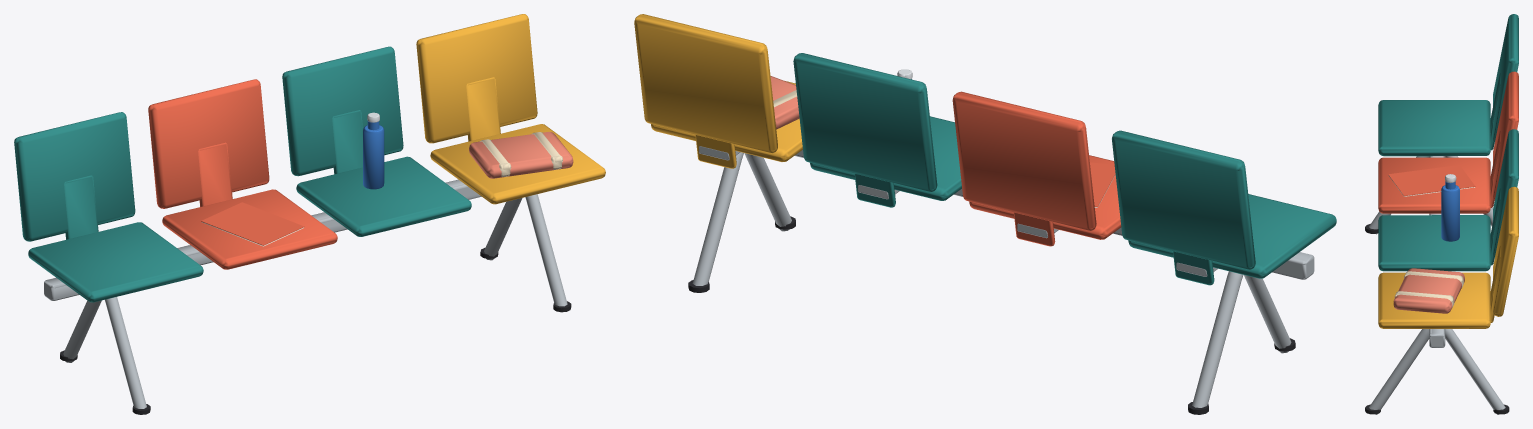
File: spectator_chairs.glb
3 views of the same model, side by side, from view 1: azimuth 30°, elevation 25°; view 2: azimuth 150°, elevation 25°; view 3: azimuth 270°, elevation 25° (orthographic). The views are drawn at different scales.
Parts seen in each view (by area): view 1: SpectatorChairsBody; view 2: SpectatorChairsBody; view 3: SpectatorChairsBody.
Part boxes in pixels (<box>): SpectatorChairsBody: <box>14,14,605,414</box>; SpectatorChairsBody: <box>634,14,1336,414</box>; SpectatorChairsBody: <box>1365,14,1518,414</box>.
Bounding box in the file's own units: 2.04 × 0.8316 × 0.5756.
